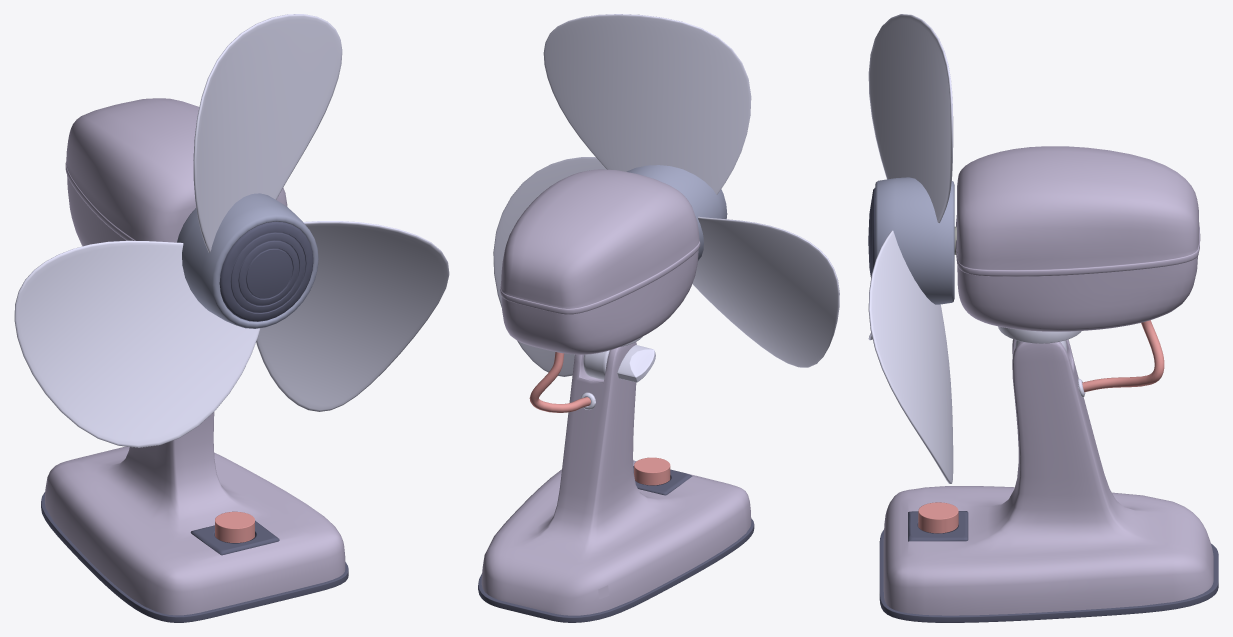
File: fan.fbx
3 views of the same model, side by side, from view 1: azimuth 30°, elevation 25°; view 2: azimuth 150°, elevation 25°; view 3: azimuth 270°, elevation 25° (orthographic). The views are drawn at different scales.
Parts seen in each view (by area): view 1: propeller_plastic_05_geom, body_plastic_11_geom, propeller_plastic_04_geom, propeller_plastic_03_geom, body_plastic_01_geom, propeller_plastic_02_geom, propeller_plastic_01_geom, base_plastic_01_geom, body_plastic_02_geom, body_plastic_12_geom, button_plastic_01_geom; view 2: body_plastic_11_geom, propeller_plastic_03_geom, body_plastic_01_geom, propeller_plastic_05_geom, body_plastic_02_geom, propeller_plastic_04_geom, propeller_plastic_01_geom, base_plastic_01_geom, body_plastic_08_geom, body_plastic_10_geom, button_plastic_01_geom, body_plastic_12_geom (+1 smaller); view 3: body_plastic_11_geom, body_plastic_01_geom, propeller_plastic_03_geom, body_plastic_02_geom, propeller_plastic_04_geom, propeller_plastic_01_geom, base_plastic_01_geom, body_plastic_08_geom, button_plastic_01_geom, body_plastic_12_geom, body_plastic_05_geom, propeller_plastic_02_geom.
Part boxes in pixels (x1,y1,x2,y2): propeller_plastic_05_geom: [14, 240, 260, 447]; body_plastic_11_geom: [45, 412, 345, 615]; propeller_plastic_04_geom: [256, 221, 449, 411]; propeller_plastic_03_geom: [193, 14, 342, 252]; body_plastic_01_geom: [65, 98, 287, 242]; propeller_plastic_02_geom: [219, 221, 313, 321]; propeller_plastic_01_geom: [177, 193, 318, 328]; base_plastic_01_geom: [41, 492, 348, 622]; body_plastic_02_geom: [67, 175, 125, 246]; body_plastic_12_geom: [190, 520, 279, 555]; button_plastic_01_geom: [215, 511, 254, 542]; body_plastic_11_geom: [481, 342, 751, 615]; propeller_plastic_03_geom: [543, 14, 751, 194]; body_plastic_01_geom: [500, 169, 700, 314]; propeller_plastic_05_geom: [692, 216, 839, 367]; body_plastic_02_geom: [501, 250, 698, 354]; propeller_plastic_04_geom: [493, 157, 606, 376]; propeller_plastic_01_geom: [626, 165, 727, 260]; base_plastic_01_geom: [478, 518, 754, 622]; body_plastic_08_geom: [529, 352, 590, 412]; body_plastic_10_geom: [617, 345, 655, 382]; button_plastic_01_geom: [634, 457, 670, 485]; body_plastic_12_geom: [633, 466, 692, 495]; body_plastic_11_geom: [883, 339, 1213, 615]; body_plastic_01_geom: [956, 146, 1200, 276]; propeller_plastic_03_geom: [868, 14, 953, 222]; body_plastic_02_geom: [957, 256, 1197, 331]; propeller_plastic_04_geom: [868, 230, 953, 483]; propeller_plastic_01_geom: [875, 177, 954, 304]; base_plastic_01_geom: [879, 530, 1218, 622]; body_plastic_08_geom: [1082, 320, 1164, 392]; button_plastic_01_geom: [918, 502, 958, 533]; body_plastic_12_geom: [908, 511, 968, 541]; body_plastic_05_geom: [998, 326, 1081, 343]; propeller_plastic_02_geom: [868, 188, 875, 277].
Bounding box in the file's own units: 48.63 × 63.71 × 36.48.
